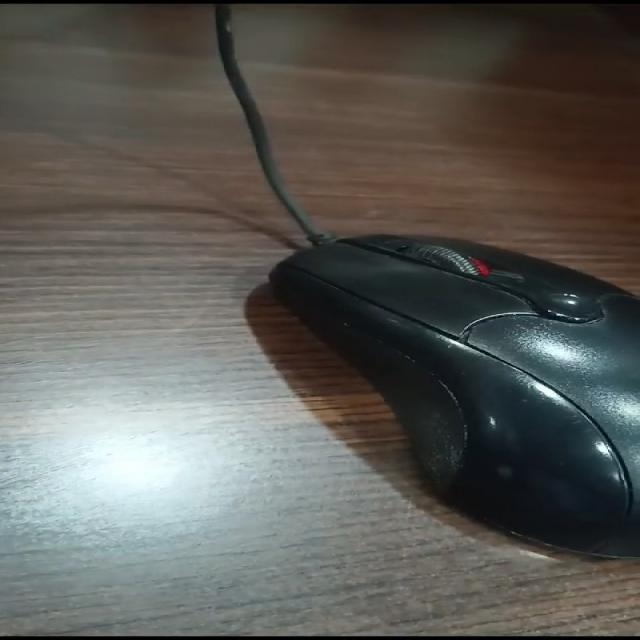Mouse: (216, 178, 640, 585)
